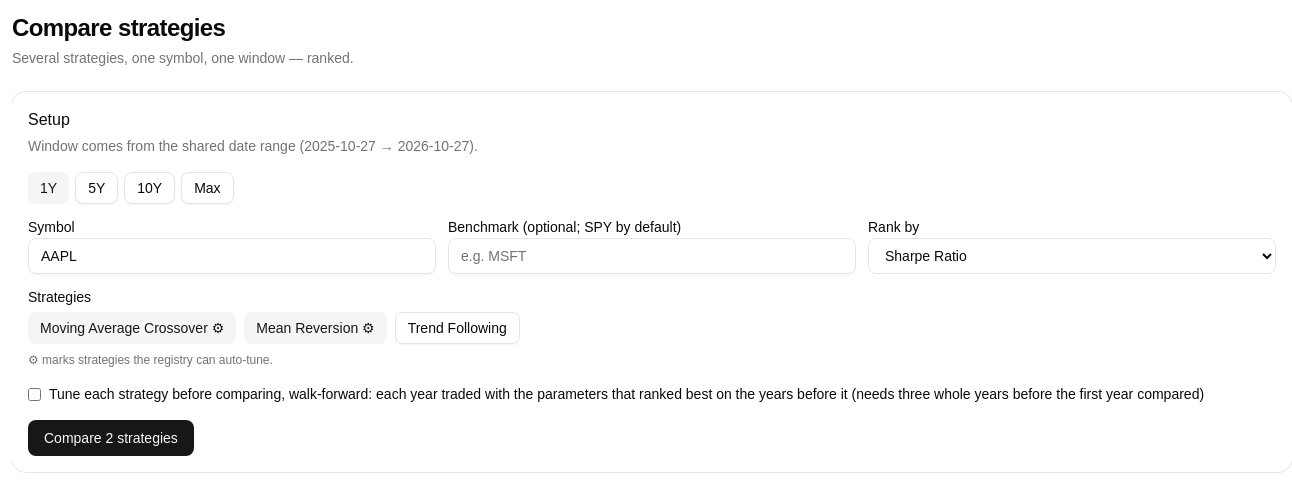
Test: ComparePage — setup › will not run with no strategies selected
// Both defaults deselected, so nothing is left to compare.
Click the button "Moving Average Crossover ⚙" at {"x": 132, "y": 328}, box x1=28 y1=312 x2=236 y2=344
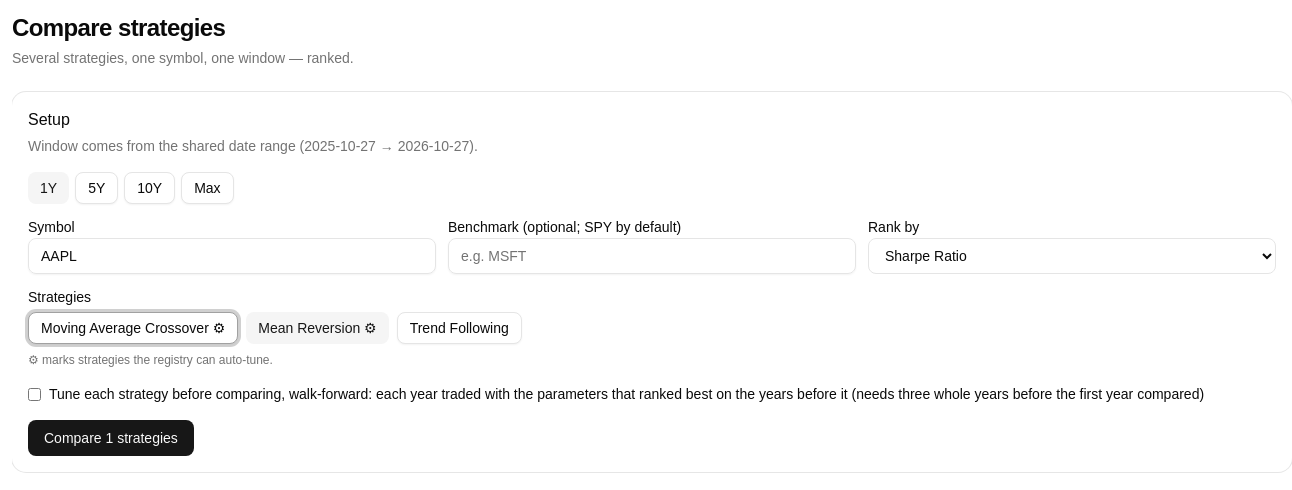
Click the button "Mean Reversion ⚙" at {"x": 318, "y": 328}, box x1=246 y1=312 x2=389 y2=344
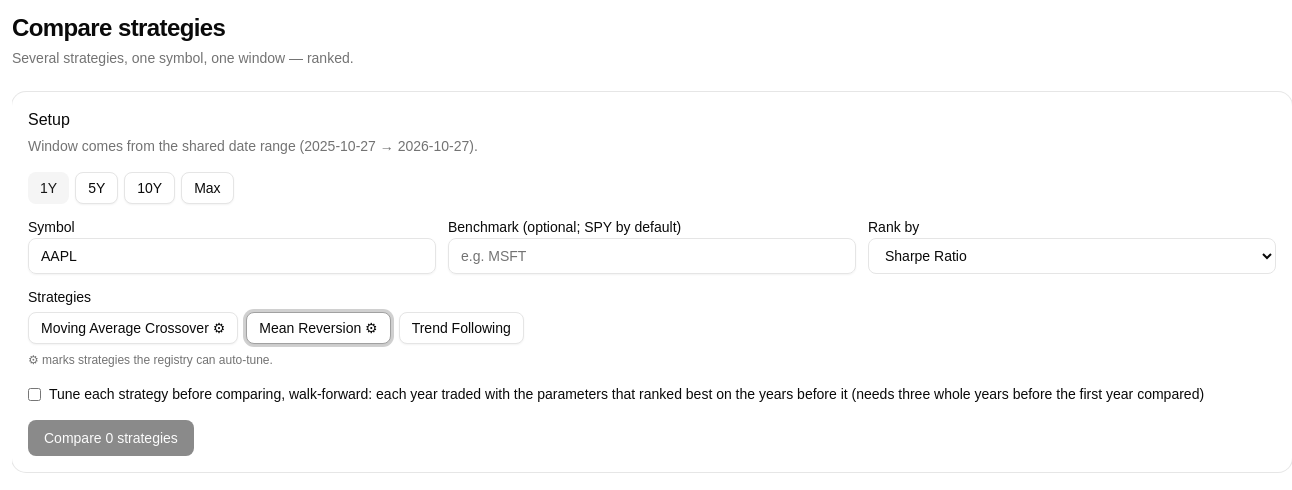
Result: the button "Compare 0 strategies" is disabled at x1=28 y1=420 x2=194 y2=456
